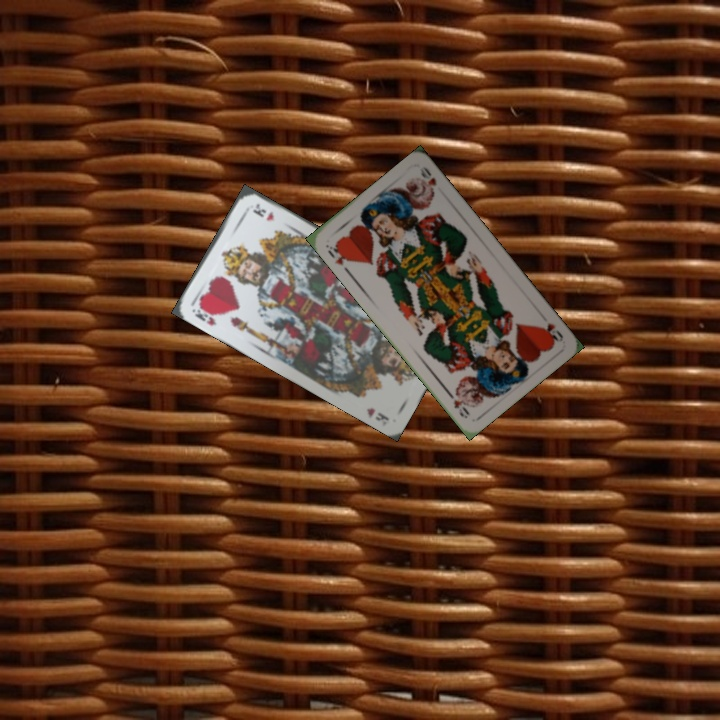HK: (189, 301, 219, 328)
HO: (322, 240, 353, 268), (537, 319, 566, 346)
